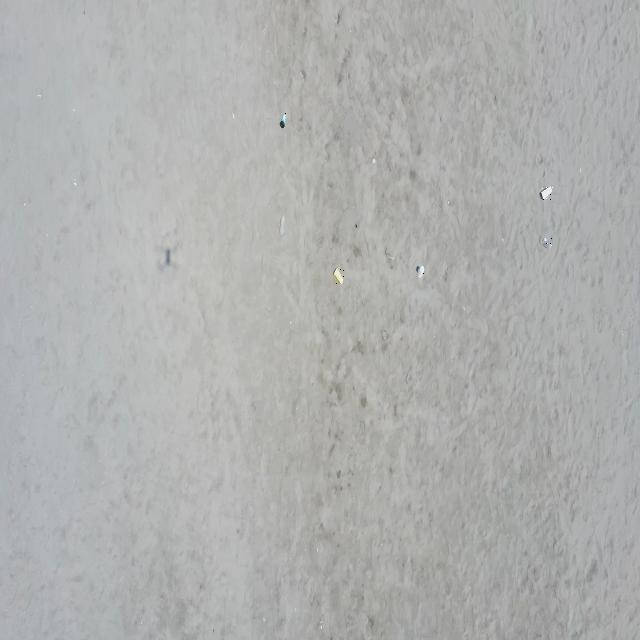takeaway-cup: (540, 186, 553, 200), (334, 267, 344, 285), (540, 235, 552, 249), (279, 216, 286, 236), (280, 113, 286, 129), (417, 266, 424, 278)
